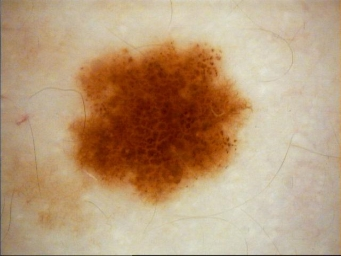melanoma: (73, 42, 253, 202)
